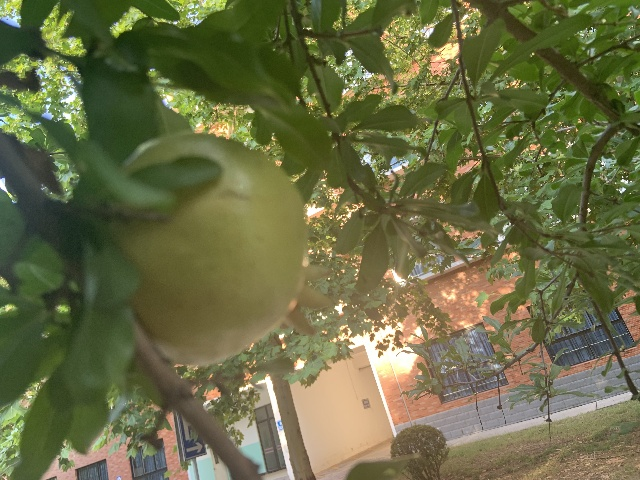mid-growth: (110, 131, 307, 363)
